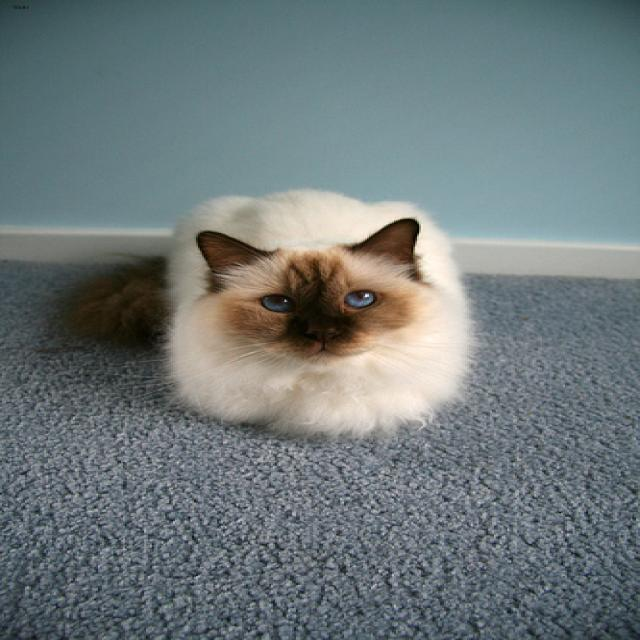Birman: (187, 217, 443, 375)
